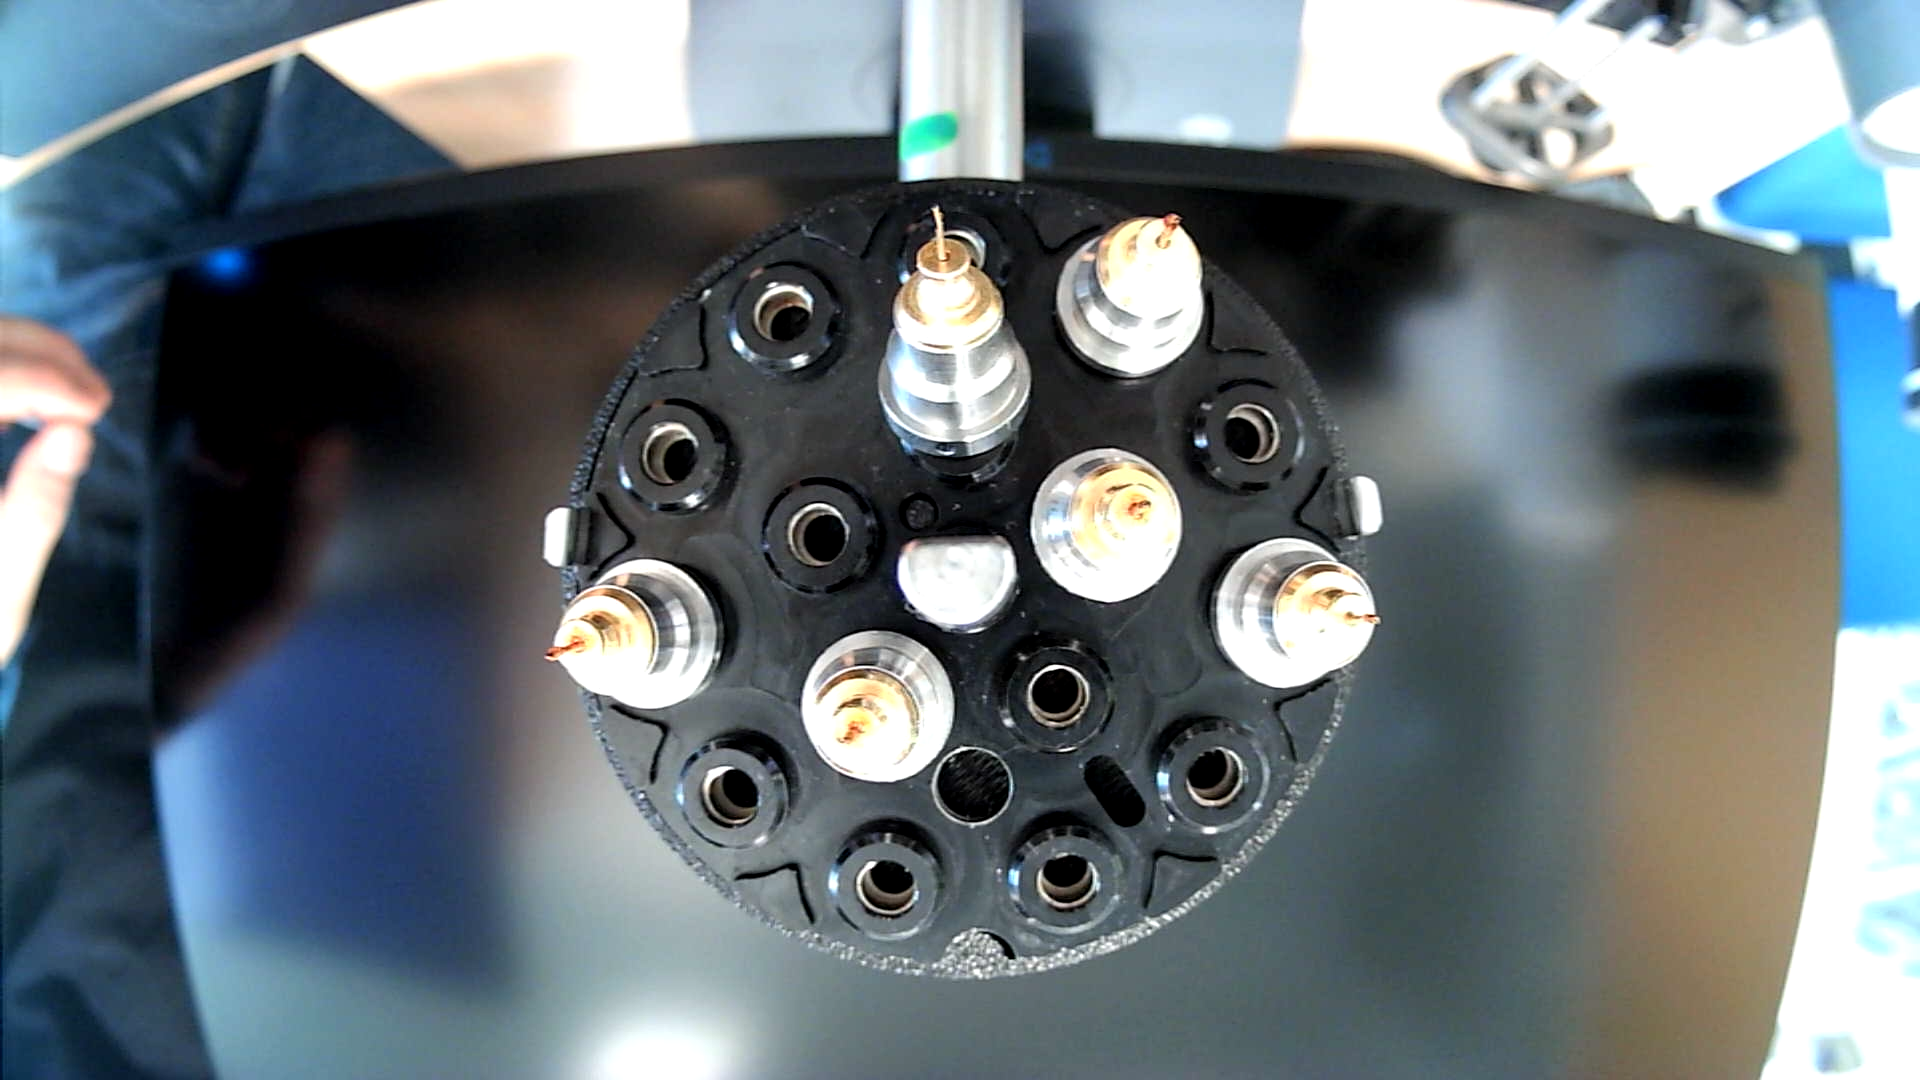empty: (824, 816, 963, 949), (673, 727, 802, 866), (752, 472, 886, 605), (611, 396, 742, 527), (1150, 712, 1279, 843), (1182, 376, 1311, 506), (721, 258, 855, 384), (994, 634, 1120, 767), (1000, 819, 1127, 945)
hole: (930, 742, 1015, 829)
misplaced: (874, 198, 1035, 483)
pin: (543, 555, 725, 715), (1209, 535, 1381, 692), (1054, 212, 1205, 384), (800, 626, 956, 783), (1030, 448, 1184, 607)
rod: (889, 531, 1023, 633)
